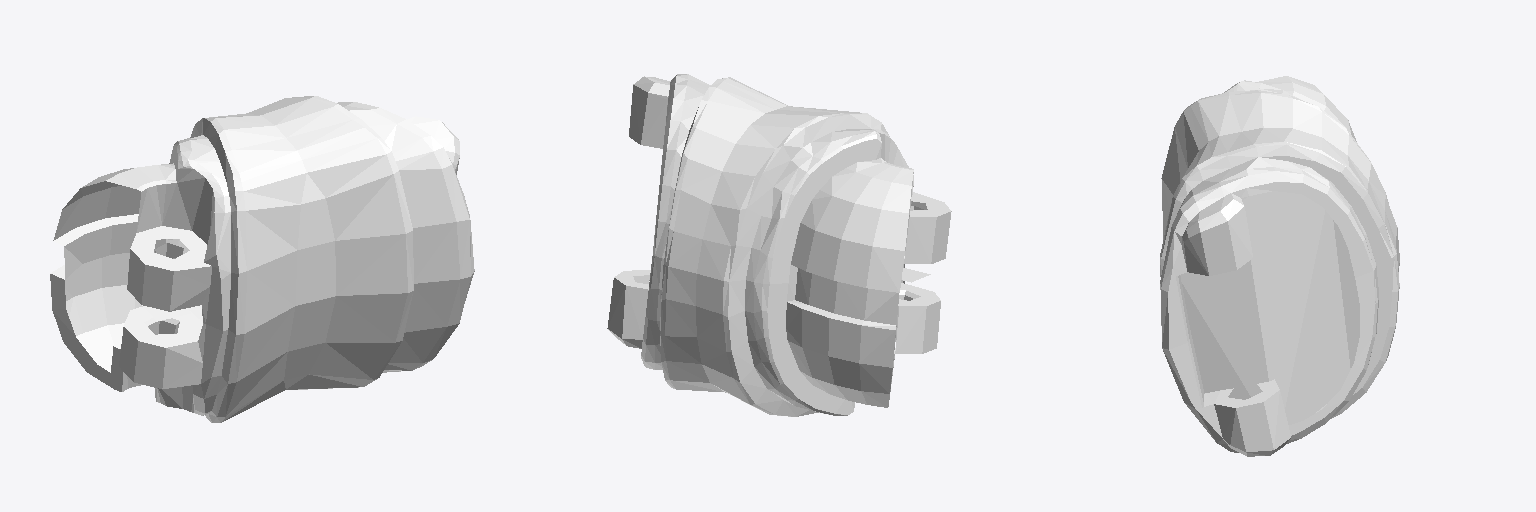
3 views of the same model, side by side, from view 1: azimuth 30°, elevation 25°; view 2: azimuth 150°, elevation 25°; view 3: azimuth 270°, elevation 25° (orthographic).
Visible parts, largest first — view 1: RFinger21_RPhalax_4; view 2: RFinger21_RPhalax_4; view 3: RFinger21_RPhalax_4.
Boxes of the visible parts, x1=… form: RFinger21_RPhalax_4: x1=50, y1=96, x2=474, y2=422; RFinger21_RPhalax_4: x1=607, y1=74, x2=951, y2=416; RFinger21_RPhalax_4: x1=1160, y1=76, x2=1399, y2=456.
Size of the model in its own units: 0.1938 by 0.1588 by 0.1204.
Materials: 1 (1 with a texture image).